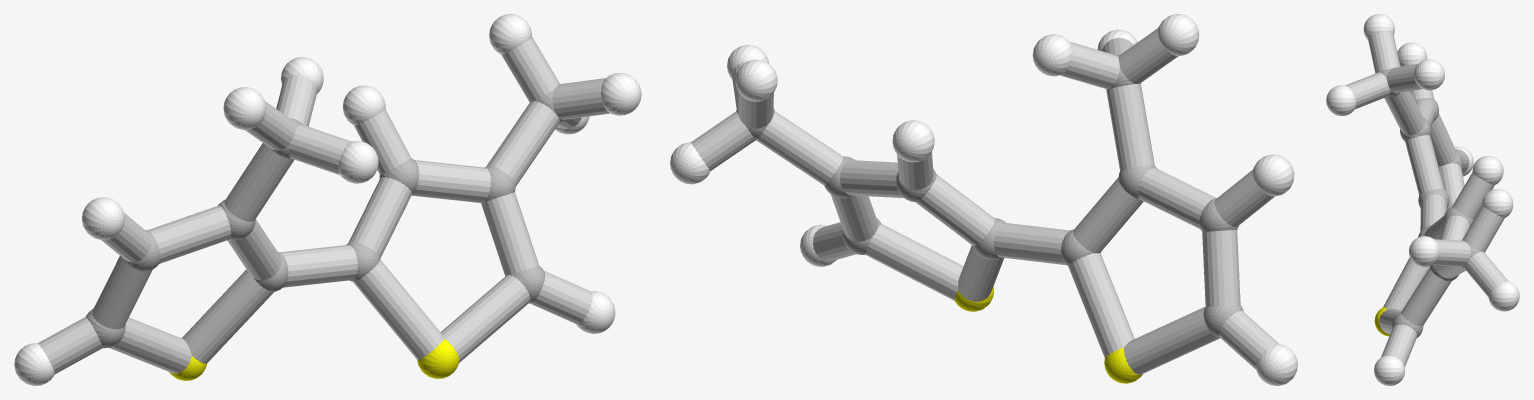
Rendered from Methylthiophene_Phi_5_Theta_130_Methylthiophene.glb.
The picture shows the model from 3 angles, left to right: view 1: azimuth 30°, elevation 25°; view 2: azimuth 150°, elevation 25°; view 3: azimuth 270°, elevation 25°; orthographic projection. The views are drawn at different scales.
Visible parts, largest first — view 1: grp7965, grp3621, grp1, grp7241; view 2: grp7965, grp3621, grp1, grp7241; view 3: grp7965, grp3621, grp1.
Part boxes in pixels (x1=…): grp7965: x1=37, y1=37, x2=610, y2=373; grp3621: x1=14, y1=14, x2=641, y2=385; grp1: x1=85, y1=90, x2=564, y2=348; grp7241: x1=169, y1=339, x2=459, y2=380; grp7965: x1=690, y1=28, x2=1278, y2=374; grp3621: x1=670, y1=14, x2=1297, y2=385; grp1: x1=736, y1=54, x2=1243, y2=338; grp7241: x1=954, y1=286, x2=1142, y2=383; grp7965: x1=1345, y1=31, x2=1507, y2=366; grp3621: x1=1326, y1=14, x2=1519, y2=385; grp1: x1=1380, y1=69, x2=1480, y2=337.
Size of the model in its own units: 9.68 by 5.27 by 3.72.
